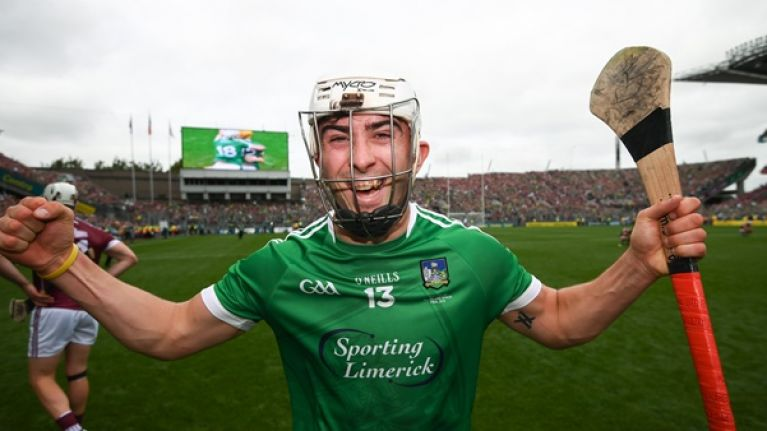hurley: (581, 43, 752, 431)
